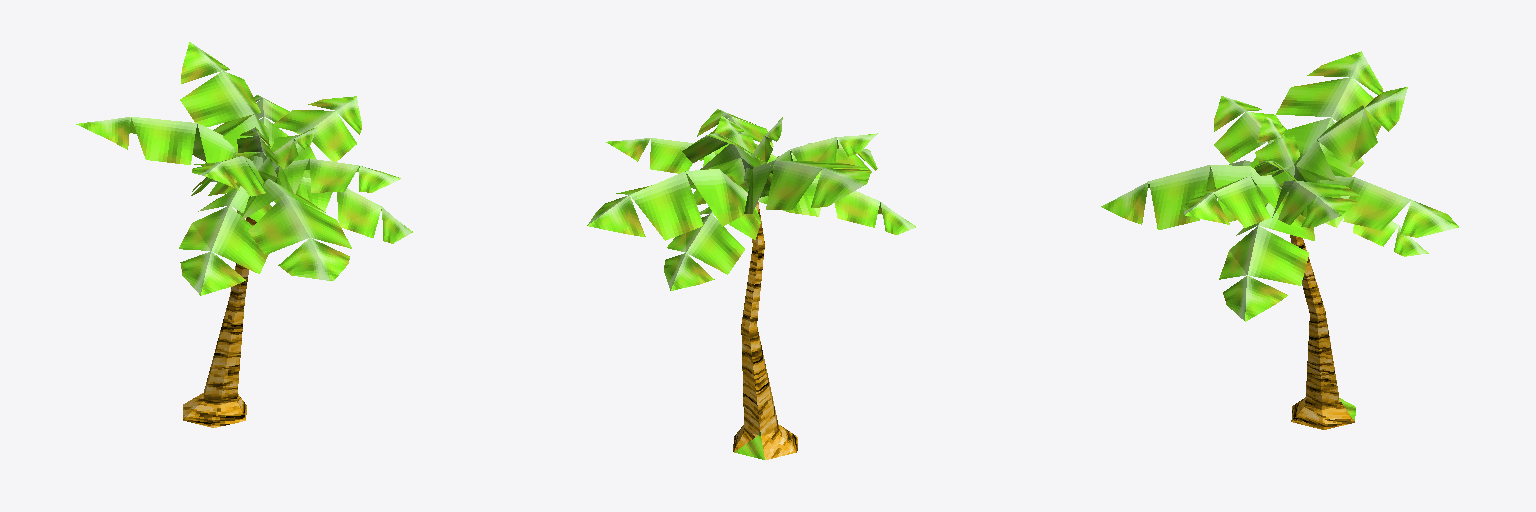
The picture shows the model from 3 angles: view 1: azimuth 30°, elevation 25°; view 2: azimuth 150°, elevation 25°; view 3: azimuth 270°, elevation 25°; orthographic projection.
Parts seen in each view (by area): view 1: Mesh_tree_003_Plane_533-mesh.001; view 2: Mesh_tree_003_Plane_533-mesh.001; view 3: Mesh_tree_003_Plane_533-mesh.001.
Part boxes in pixels (x1,y1,x2,y2): Mesh_tree_003_Plane_533-mesh.001: (76,42,412,427); Mesh_tree_003_Plane_533-mesh.001: (587,109,915,459); Mesh_tree_003_Plane_533-mesh.001: (1101,51,1458,429).
Size of the model in its own units: 3.59 by 4.11 by 3.98.
Materials: 1 (1 with a texture image).